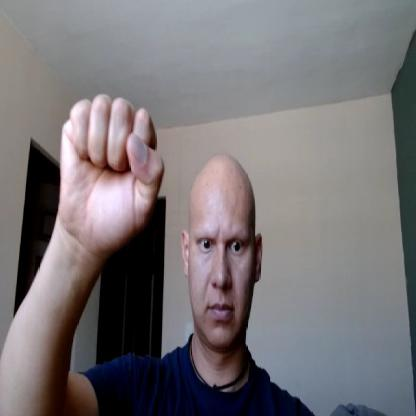S: (59, 92, 168, 249)
